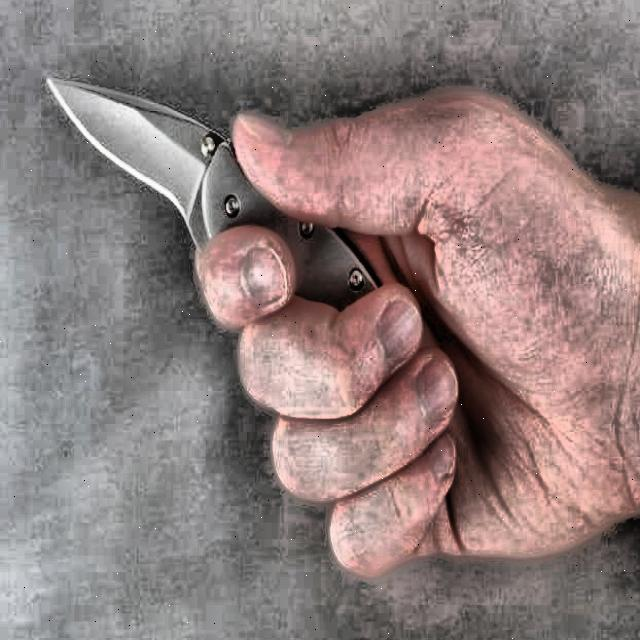knife: (48, 81, 381, 310)
